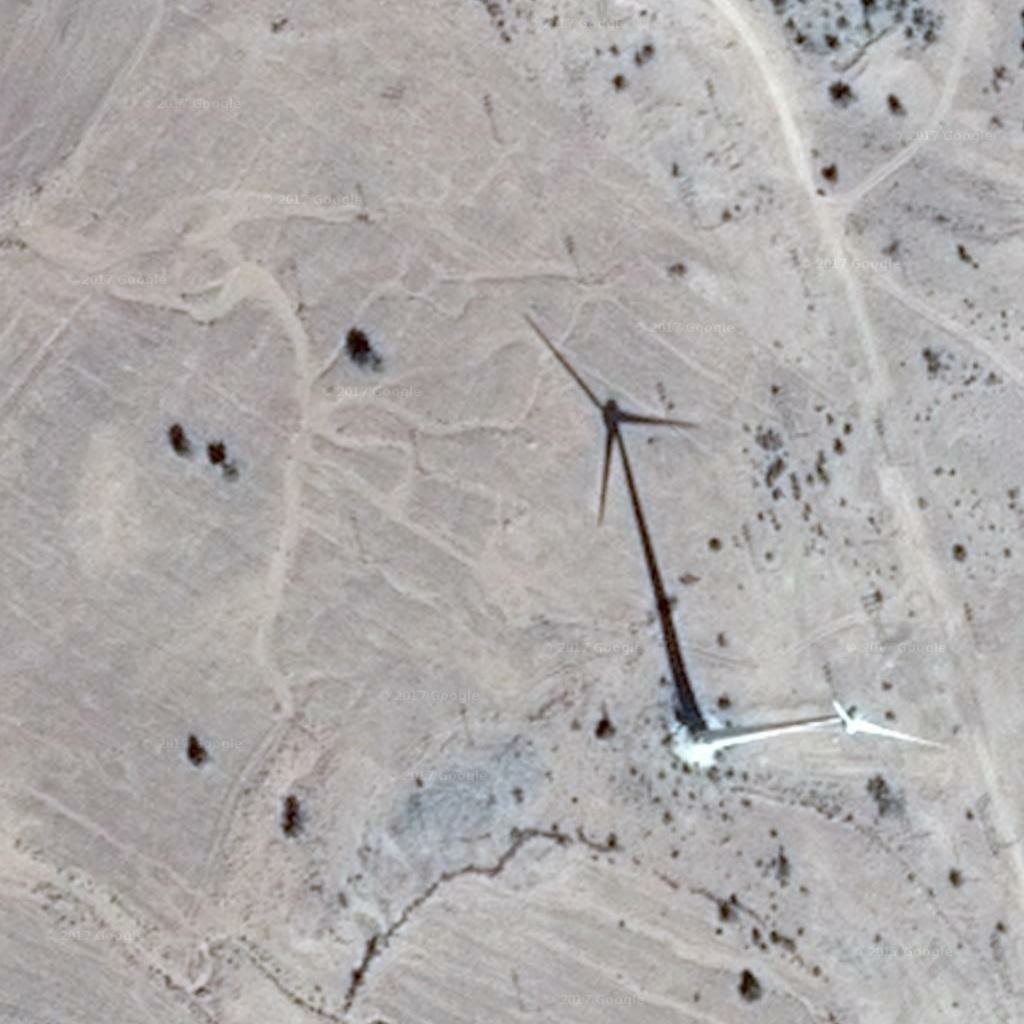Windmill: (516, 298, 701, 605)
